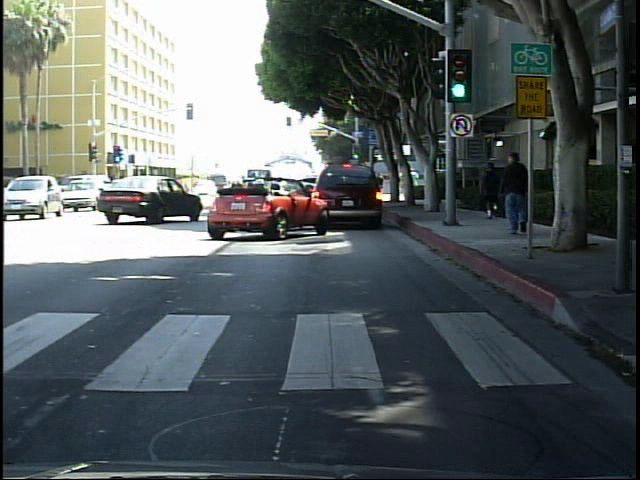person: (501, 145, 531, 237), (482, 157, 507, 221), (407, 164, 424, 201)
